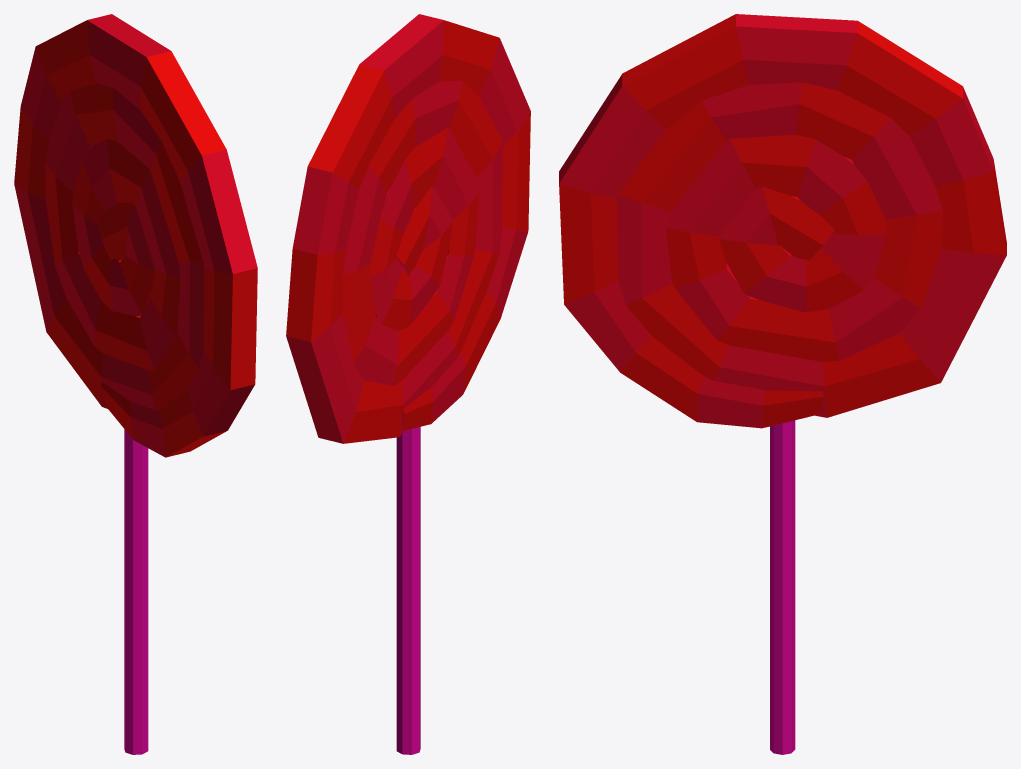
File: Lollipop_01.fbx
3 renders of one model, left to right at view 1: azimuth 30°, elevation 25°; view 2: azimuth 150°, elevation 25°; view 3: azimuth 270°, elevation 25°, orthographic. The views are drawn at different scales.
Visible parts, largest first — view 1: Lollipop_01; view 2: Lollipop_01; view 3: Lollipop_01.
Boxes of the visible parts, <box> form: Lollipop_01: <box>14,14,257,754</box>; Lollipop_01: <box>286,14,530,754</box>; Lollipop_01: <box>559,14,1006,754</box>.
Size of the model in its own units: 0.3004 by 6.8 by 3.79.
